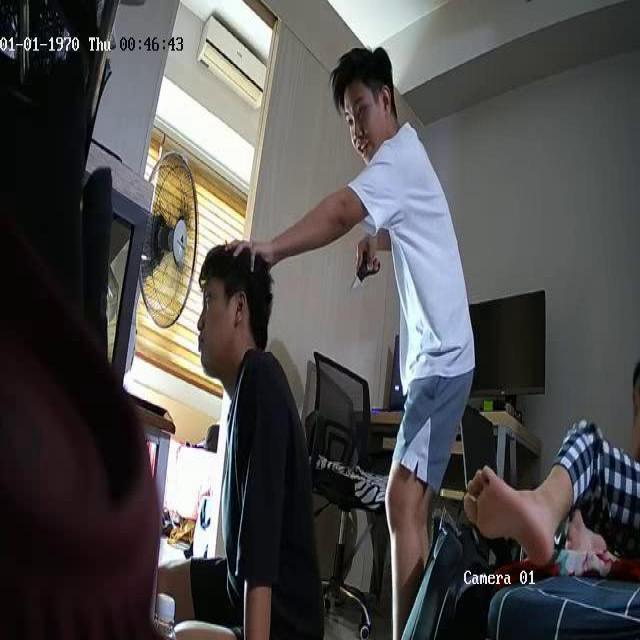scissor: (350, 254, 381, 288)
